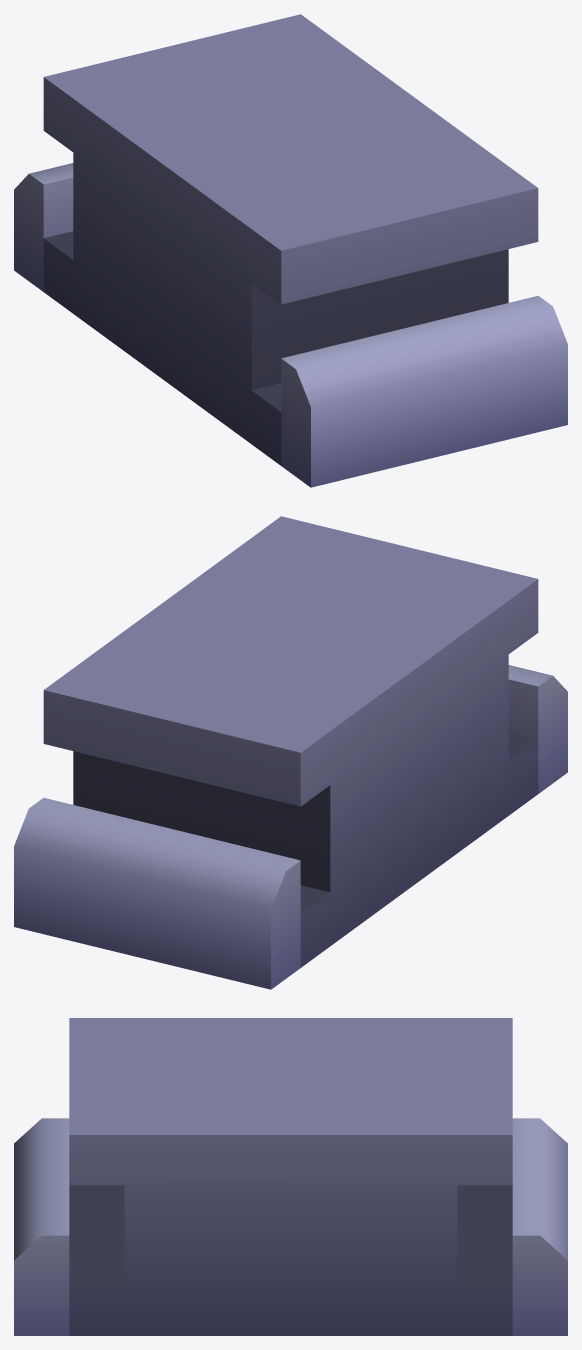
Rendered from kenney-conveyor-conveyor-long-sides-part-middle.glb.
3 views of the same model, one above another, from view 1: azimuth 30°, elevation 25°; view 2: azimuth 150°, elevation 25°; view 3: azimuth 270°, elevation 25° (orthographic). The views are drawn at different scales.
Visible parts, largest first — view 1: conveyor-long-sides-part-middle; view 2: conveyor-long-sides-part-middle; view 3: conveyor-long-sides-part-middle.
Boxes of the visible parts, <box> form: conveyor-long-sides-part-middle: <box>14,14,567,487</box>; conveyor-long-sides-part-middle: <box>14,516,567,989</box>; conveyor-long-sides-part-middle: <box>14,1018,567,1335</box>.
Bounding box in the file's own units: 0.5001 × 0.3999 × 1.
Materials: 1 (1 with a texture image).
